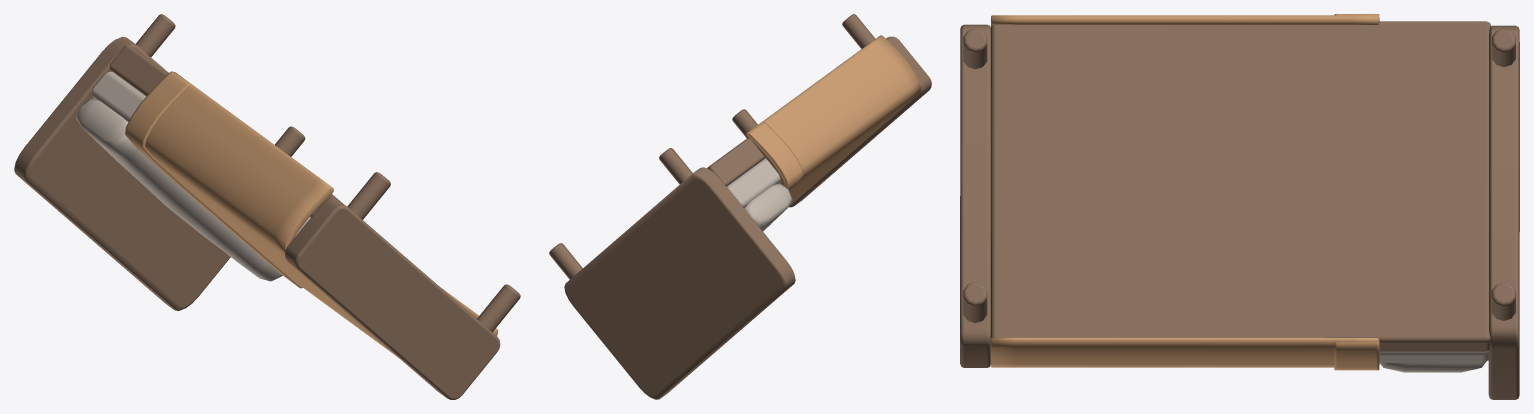
The model's file is bed1.glb.
The picture shows the model from 3 angles, left to right: view 1: azimuth 30°, elevation 25°; view 2: azimuth 150°, elevation 25°; view 3: azimuth 270°, elevation 25°; orthographic projection. The views are drawn at different scales.
Parts seen in each view (by area): view 1: Rectangle (×2), blanket, pillow, Subdiv 2, Cylinder 2 (×2), basebed, basebed 2, Cylinder (×2); view 2: Rectangle (×2), blanket, Subdiv 2, basebed, basebed 2, pillow, Cylinder 2 (×2), Cylinder (×2); view 3: basebed, Rectangle (×2), blanket, Cylinder (×2), Cylinder 2 (×2), Subdiv 2, basebed 2, pillow.
Boxes of the visible parts, x1,y1,x2,y2 form: Rectangle (×2): (14, 36, 500, 399); blanket: (145, 71, 498, 356); pillow: (76, 98, 282, 281); Subdiv 2: (124, 71, 302, 288); Cylinder 2 (×2): (136, 14, 390, 219); basebed: (109, 45, 341, 217); basebed 2: (92, 71, 310, 237); Cylinder (×2): (275, 126, 520, 331); Rectangle (×2): (564, 36, 931, 399); blanket: (745, 35, 920, 204); Subdiv 2: (746, 122, 803, 190); basebed: (707, 138, 764, 186); basebed 2: (726, 158, 781, 207); pillow: (744, 183, 792, 231); Cylinder 2 (×2): (659, 14, 875, 184); Cylinder (×2): (549, 109, 757, 279); basebed: (990, 21, 1490, 351); Rectangle (×2): (960, 24, 1519, 399); blanket: (990, 15, 1379, 367); Cylinder (×2): (963, 282, 1515, 323); Cylinder 2 (×2): (963, 28, 1515, 69); Subdiv 2: (1334, 14, 1379, 370); basebed 2: (1379, 350, 1488, 362); pillow: (1380, 361, 1486, 372).
Size of the model in its own units: 2.75 by 2.73 by 3.82.
